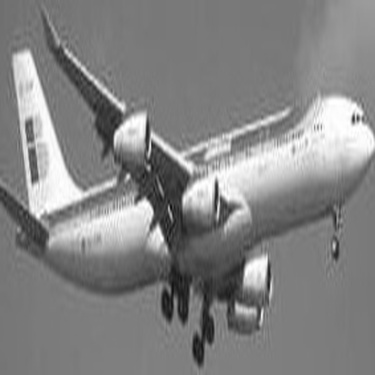airplane: (4, 8, 368, 371)
